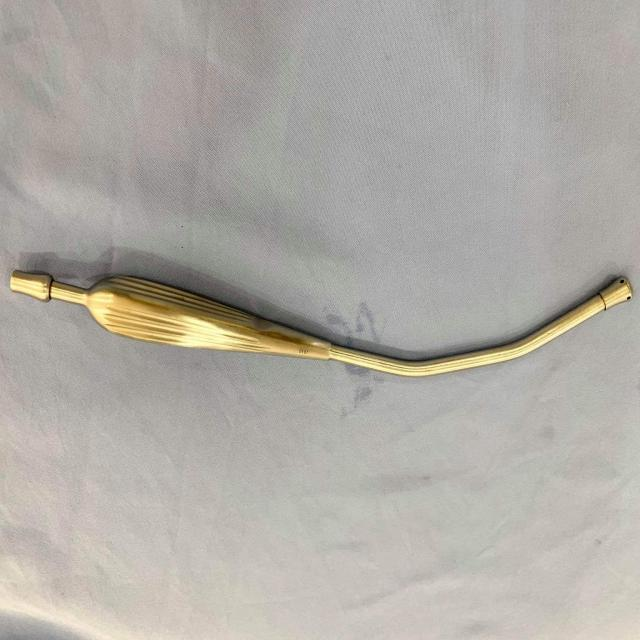Yankauer: (8, 266, 635, 379)
